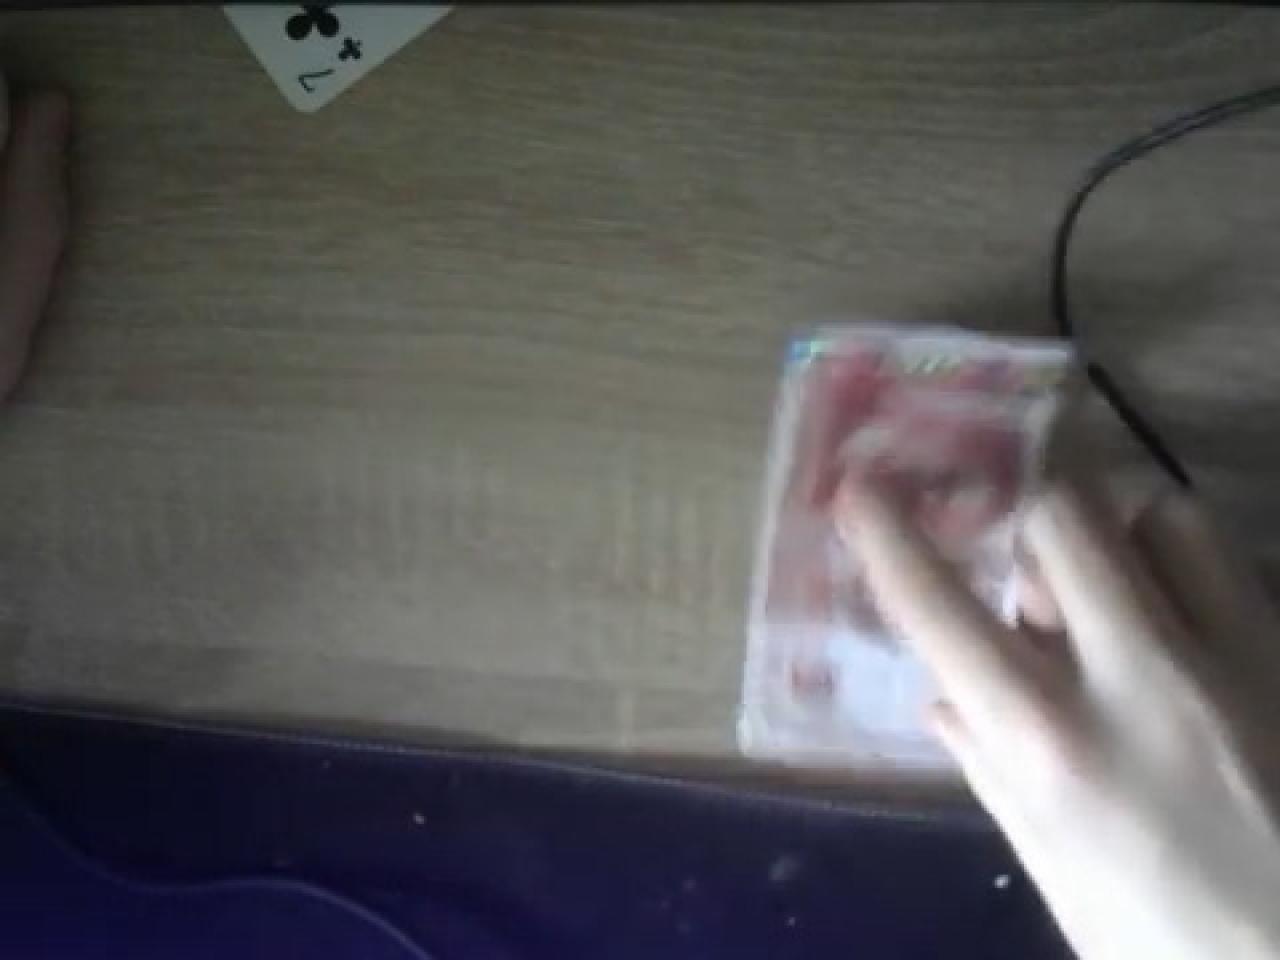5leva: (736, 320, 1280, 960)
